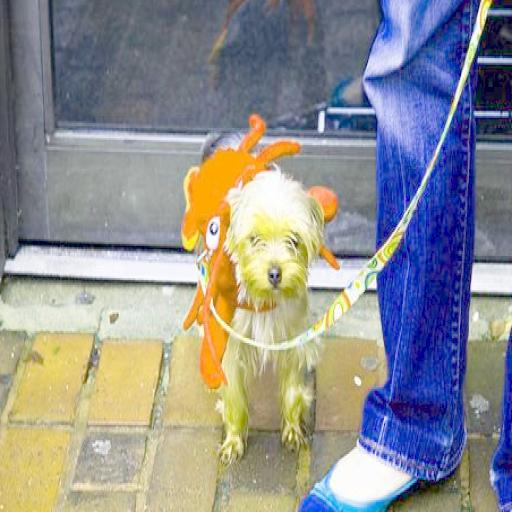dog_face: (227, 179, 316, 297)
